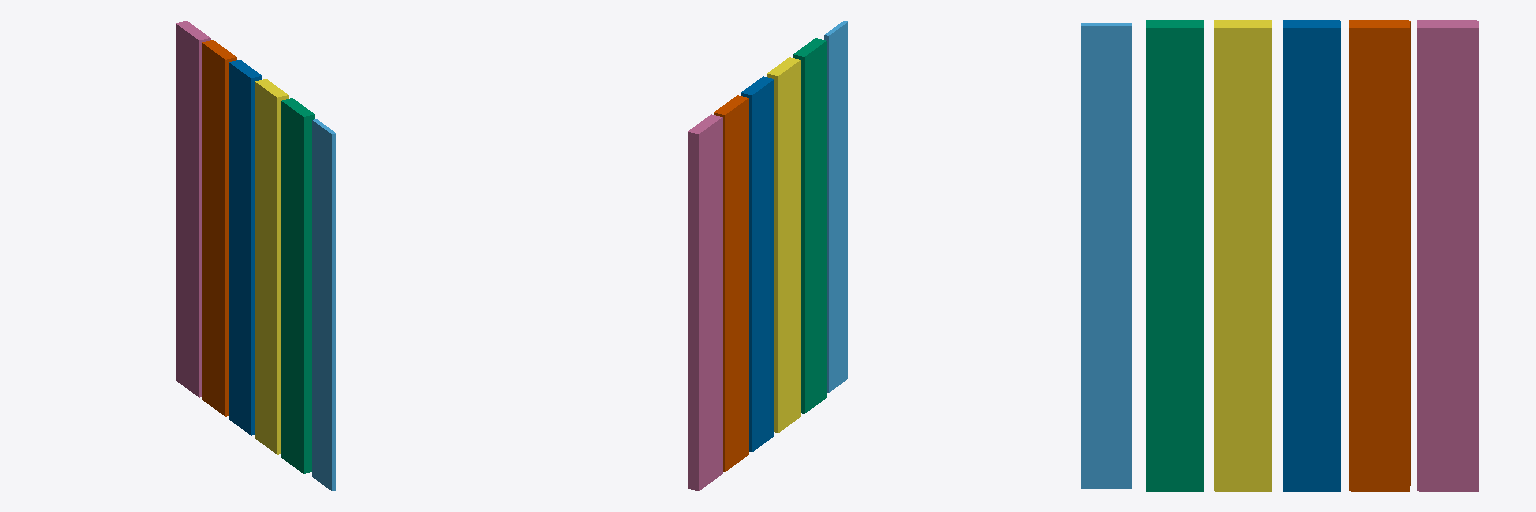
URDF robot description (window_bedroom):
<?xml version="1.0" ?>

<robot name="window_bedroom">
  
  <gazebo reference="wbase_bedroom">
    <material>Gazebo/GrassFloor</material>
  </gazebo>

  <link name="world"/>

  <joint name="wlink_joint_bedroom1" type="revolute">
    <axis xyz="0 0 1"/>
    <parent link="world"/>
    <origin rpy="0 0 0" xyz="-0.15 1.575 1.5"/>
    <limit effort="1000.0" lower="-0" upper="1.57" velocity="0.5"/>
    <child link="wlink_bedroom1"/>
    <dynamics damping="10" friction="1000"/>
  </joint>
  
  <joint name="wlink_joint_bedroom2" type="revolute">
    <axis xyz="0 0 1"/>
    <parent link="world"/>
    <origin rpy="0 0 0" xyz="-0.15 1.775 1.5"/>
    <limit effort="1000.0" lower="-0" upper="1.57" velocity="0.5"/>
    <child link="wlink_bedroom2"/>
    <dynamics damping="10" friction="1000"/>
  </joint>
  
  <joint name="wlink_joint_bedroom3" type="revolute">
    <axis xyz="0 0 1"/>
    <parent link="world"/>
    <origin rpy="0 0 0" xyz="-0.15 1.975 1.5"/>
    <limit effort="1000.0" lower="-0" upper="1.57" velocity="0.5"/>
    <child link="wlink_bedroom3"/>
    <dynamics damping="10" friction="1000"/>
  </joint>
  
  <joint name="wlink_joint_bedroom4" type="revolute">
    <axis xyz="0 0 1"/>
    <parent link="world"/>
    <origin rpy="0 0 0" xyz="-0.15 2.175 1.5"/>
    <limit effort="1000.0" lower="-0" upper="1.57" velocity="0.5"/>
    <child link="wlink_bedroom4"/>
    <dynamics damping="10" friction="1000"/>
  </joint>
  
  <joint name="wlink_joint_bedroom5" type="revolute">
    <axis xyz="0 0 1"/>
    <parent link="world"/>
    <origin rpy="0 0 0" xyz="-0.15 2.375 1.5"/>
    <limit effort="1000.0" lower="-0" upper="1.57" velocity="0.5"/>
    <child link="wlink_bedroom5"/>
    <dynamics damping="10" friction="1000"/>
  </joint>
  
  <joint name="wlink_joint_bedroom6" type="revolute">
    <axis xyz="0 0 1"/>
    <parent link="world"/>
    <origin rpy="0 0 0" xyz="-0.15 2.575 1.5"/>
    <limit effort="1000.0" lower="-0" upper="1.57" velocity="0.5"/>
    <child link="wlink_bedroom6"/>
    <dynamics damping="10" friction="1000"/>
  </joint>
  

  <link name="wlink_bedroom1">
    <inertial>
      <mass value="10"/>
      <origin xyz="0 0 0"/>
      <inertia ixx="1.0" ixy="0.0" ixz="0.0" iyy="0.1" iyz="0.0" izz="0.1"/>
    </inertial>
    <visual>
      <origin rpy="0 0 1.57" xyz="0 0 0"/>
      <geometry>
        <box size="0.15 0.02 1.5"/>
      </geometry>
    </visual>
    <collision>
      <origin rpy="0 0 90" xyz="0 0 0"/>
      <geometry>
        <box size="0.15 0.02 1.5"/>
      </geometry>
    </collision>
  </link>
  <gazebo reference="wlink_bedroom1">
    <material>Gazebo/RustySteel</material>
    <turnGravityOff>true</turnGravityOff>
  </gazebo>

  <link name="wlink_bedroom2">
    <inertial>
      <mass value="10"/>
      <origin xyz="0 0 0"/>
      <inertia ixx="1.0" ixy="0.0" ixz="0.0" iyy="0.1" iyz="0.0" izz="0.1"/>
    </inertial>
    <visual>
      <origin rpy="0 0 1.57" xyz="0 0 0"/>
      <geometry>
        <box size="0.17 0.05 1.5"/>
      </geometry>
    </visual>
    <collision>
      <origin rpy="0 0 90" xyz="0 0 0"/>
      <geometry>
        <box size="0.17 0.05 1.5"/>
      </geometry>
    </collision>
  </link>
  <gazebo reference="wlink_bedroom2">
    <material>Gazebo/RustySteel</material>
    <turnGravityOff>true</turnGravityOff>
  </gazebo>
  
  <link name="wlink_bedroom3">
    <inertial>
      <mass value="10"/>
      <origin xyz="0 0 0"/>
      <inertia ixx="1.0" ixy="0.0" ixz="0.0" iyy="0.1" iyz="0.0" izz="0.1"/>
    </inertial>
    <visual>
      <origin rpy="0 0 1.57" xyz="0 0 0"/>
      <geometry>
        <box size="0.17 0.05 1.5"/>
      </geometry>
    </visual>
    <collision>
      <origin rpy="0 0 90" xyz="0 0 0"/>
      <geometry>
        <box size="0.17 0.05 1.5"/>
      </geometry>
    </collision>
  </link>
  <gazebo reference="wlink_bedroom3">
    <material>Gazebo/RustySteel</material>
    <turnGravityOff>true</turnGravityOff>
  </gazebo>
  
  <link name="wlink_bedroom4">
    <inertial>
      <mass value="10"/>
      <origin xyz="0 0 0"/>
      <inertia ixx="1.0" ixy="0.0" ixz="0.0" iyy="0.1" iyz="0.0" izz="0.1"/>
    </inertial>
    <visual>
      <origin rpy="0 0 1.57" xyz="0 0 0"/>
      <geometry>
        <box size="0.17 0.05 1.5"/>
      </geometry>
    </visual>
    <collision>
      <origin rpy="0 0 90" xyz="0 0 0"/>
      <geometry>
        <box size="0.17 0.05 1.5"/>
      </geometry>
    </collision>
  </link>
  <gazebo reference="wlink_bedroom4">
    <material>Gazebo/RustySteel</material>
    <turnGravityOff>true</turnGravityOff>
  </gazebo>
  
  <link name="wlink_bedroom5">
    <inertial>
      <mass value="10"/>
      <origin xyz="0 0 0"/>
      <inertia ixx="1.0" ixy="0.0" ixz="0.0" iyy="0.1" iyz="0.0" izz="0.1"/>
    </inertial>
    <visual>
      <origin rpy="0 0 1.57" xyz="0 0 0"/>
      <geometry>
        <box size="0.18 0.05 1.5"/>
      </geometry>
    </visual>
    <collision>
      <origin rpy="0 0 90" xyz="0 0 0"/>
      <geometry>
        <box size="0.18 0.05 1.5"/>
      </geometry>
    </collision>
  </link>
  <gazebo reference="wlink_bedroom5">
    <material>Gazebo/RustySteel</material>
    <turnGravityOff>true</turnGravityOff>
  </gazebo>
  
  <link name="wlink_bedroom6">
    <inertial>
      <mass value="10"/>
      <origin xyz="0 0 0"/>
      <inertia ixx="1.0" ixy="0.0" ixz="0.0" iyy="0.1" iyz="0.0" izz="0.1"/>
    </inertial>
    <visual>
      <origin rpy="0 0 1.57" xyz="0 0 0"/>
      <geometry>
        <box size="0.18 0.05 1.5"/>
      </geometry>
    </visual>
    <collision>
      <origin rpy="0 0 90" xyz="0 0 0"/>
      <geometry>
        <box size="0.18 0.05 1.5"/>
      </geometry>
    </collision>
  </link>
  <gazebo reference="wlink_bedroom6">
    <material>Gazebo/RustySteel</material>
    <turnGravityOff>true</turnGravityOff>
  </gazebo>

</robot>

--- What the picture shows (computed from the rendered views, not written in the file) ---
Views: 3 orthographic renders of the robot side by side, from view 1: azimuth 30°, elevation 25°; view 2: azimuth 150°, elevation 25°; view 3: azimuth 270°, elevation 25°.
Robot: window_bedroom — 7 links, 6 joints (6 revolute); root link world; default pose: all joints at 0.
Visible links, largest first — view 1: wlink_bedroom2, wlink_bedroom5, wlink_bedroom6, wlink_bedroom3, wlink_bedroom4, wlink_bedroom1; view 2: wlink_bedroom6, wlink_bedroom3, wlink_bedroom5, wlink_bedroom2, wlink_bedroom4, wlink_bedroom1; view 3: wlink_bedroom6, wlink_bedroom5, wlink_bedroom2, wlink_bedroom3, wlink_bedroom4, wlink_bedroom1.
Boxes of the visible links, left/top/right/bottom form: wlink_bedroom2: left=281, top=98, right=314, bottom=473; wlink_bedroom5: left=202, top=40, right=236, bottom=416; wlink_bedroom6: left=176, top=21, right=210, bottom=397; wlink_bedroom3: left=255, top=79, right=288, bottom=454; wlink_bedroom4: left=229, top=60, right=261, bottom=435; wlink_bedroom1: left=312, top=119, right=335, bottom=490; wlink_bedroom6: left=688, top=114, right=722, bottom=490; wlink_bedroom3: left=767, top=57, right=800, bottom=432; wlink_bedroom5: left=714, top=95, right=748, bottom=471; wlink_bedroom2: left=793, top=38, right=826, bottom=413; wlink_bedroom4: left=741, top=76, right=773, bottom=451; wlink_bedroom1: left=824, top=21, right=847, bottom=392; wlink_bedroom6: left=1417, top=20, right=1478, bottom=491; wlink_bedroom5: left=1349, top=20, right=1410, bottom=491; wlink_bedroom2: left=1146, top=20, right=1203, bottom=491; wlink_bedroom3: left=1214, top=20, right=1271, bottom=491; wlink_bedroom4: left=1283, top=20, right=1340, bottom=491; wlink_bedroom1: left=1081, top=23, right=1131, bottom=488.
Size in the robot's own frame: 0.0501 by 1.17 by 1.5 metres.
Geometry: primitives only (box / cylinder / sphere), no mesh files.
